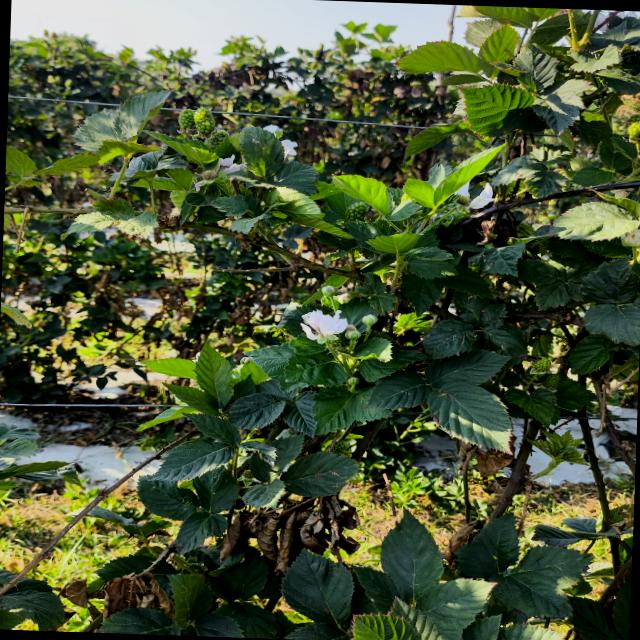boton: (345, 325, 360, 339), (361, 314, 376, 328), (321, 285, 337, 296), (347, 377, 359, 386)
flor: (300, 310, 348, 343)
